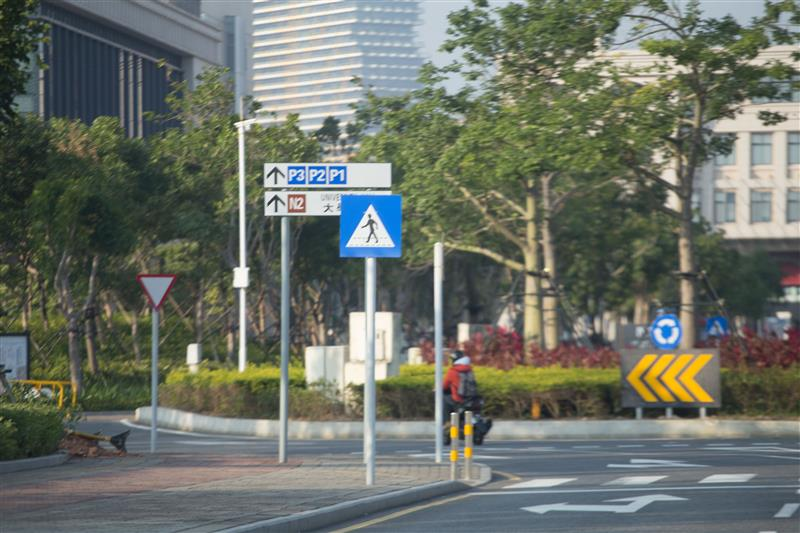pedestrianCrossing: (342, 192, 402, 258)
roundabout: (648, 313, 682, 349)
yield: (132, 272, 183, 321)
